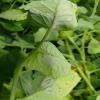Tomato leaf late blight: (22, 0, 81, 31), (25, 69, 85, 99), (23, 41, 71, 77)
